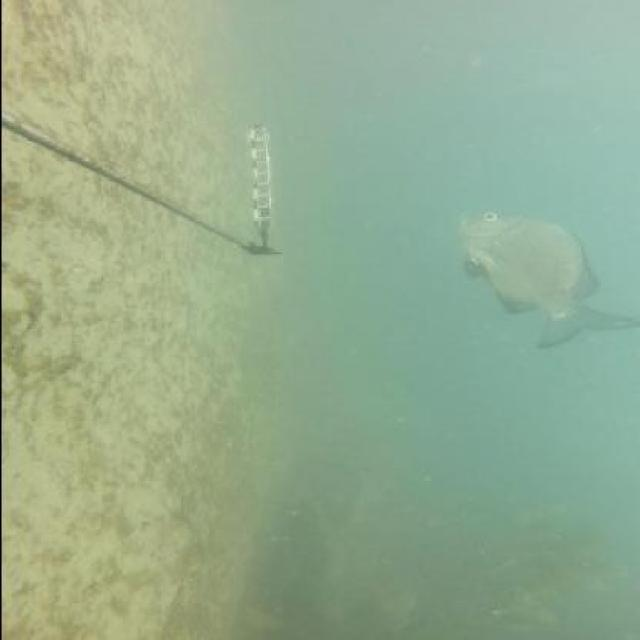acanthopagrus_palmaris: (443, 209, 635, 354)
